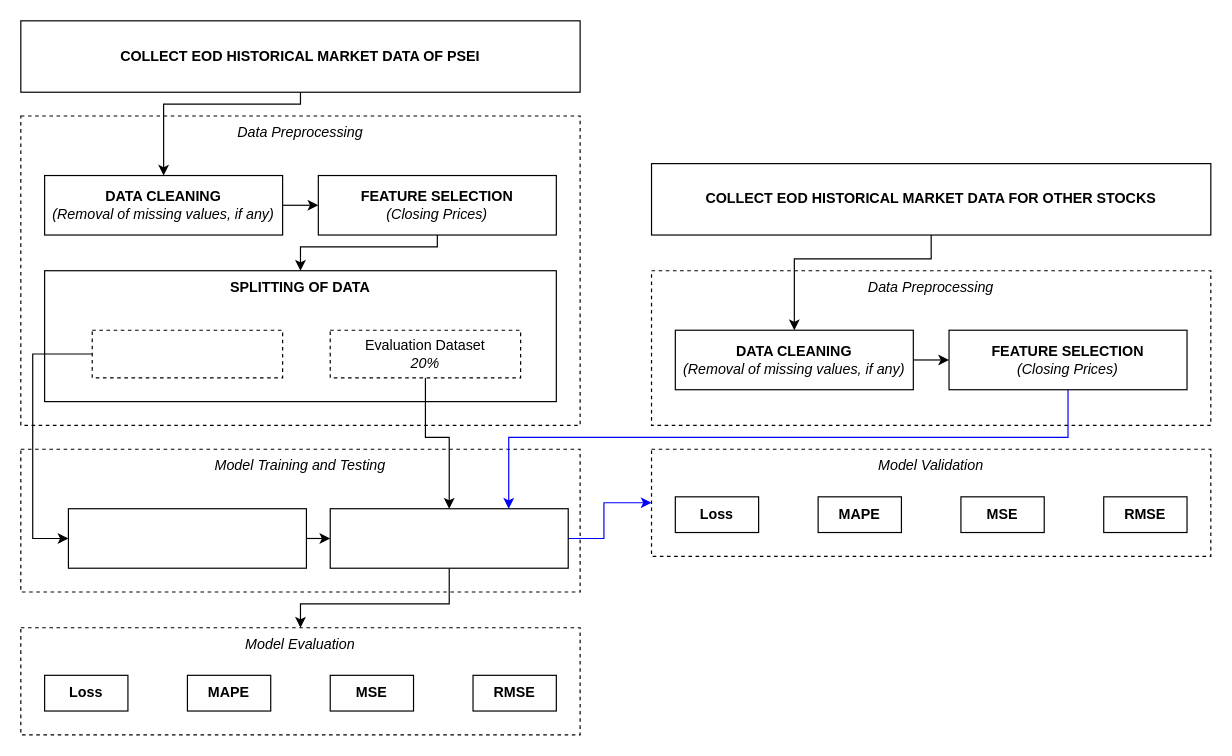
Some shapes in this 1232 by 756 pixel diagram are drawn without their labels. The centre of each missing label's shape, as x and y in pixels:
"EXTRACTION OF DYNAMIC MODES (Using pyDMD)" goes at (x=186, y=538).
"LSTM (Using Tensorflow Keras)" goes at (x=448, y=538).
"Training Dataset 80%" goes at (x=187, y=353).
